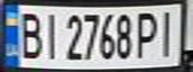2: (60, 10, 84, 61)
6: (97, 10, 118, 61)
7: (81, 10, 100, 61)
8: (112, 10, 136, 60)
B: (15, 8, 45, 60)
I: (154, 7, 181, 60), (39, 9, 60, 61)
P: (133, 8, 160, 60)
